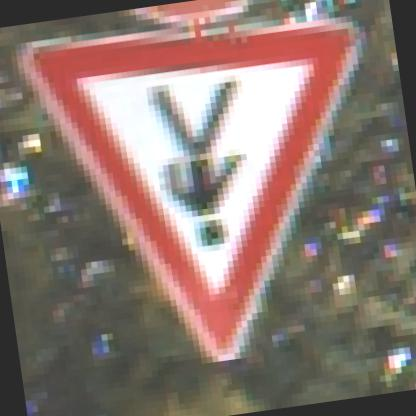crosswalk: (16, 0, 406, 392)
